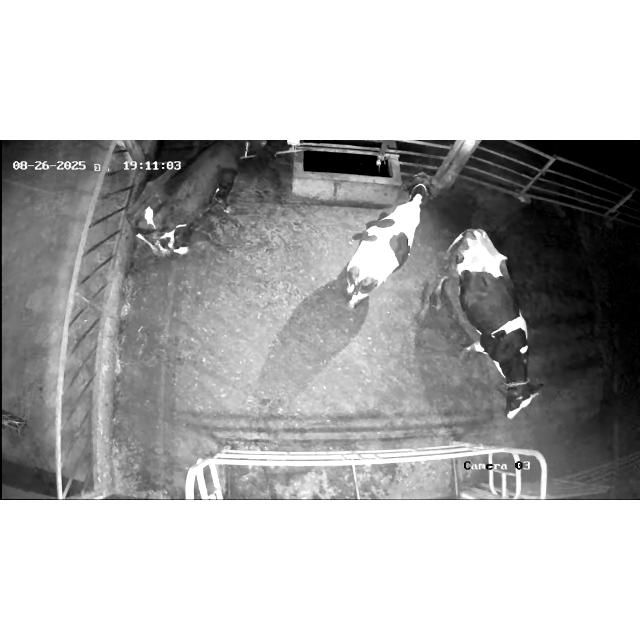stand: (433, 220, 541, 428), (125, 142, 262, 256), (333, 172, 432, 310)
